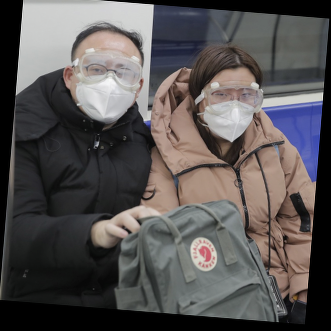with_mask: (73, 58, 138, 125), (202, 83, 257, 142)
